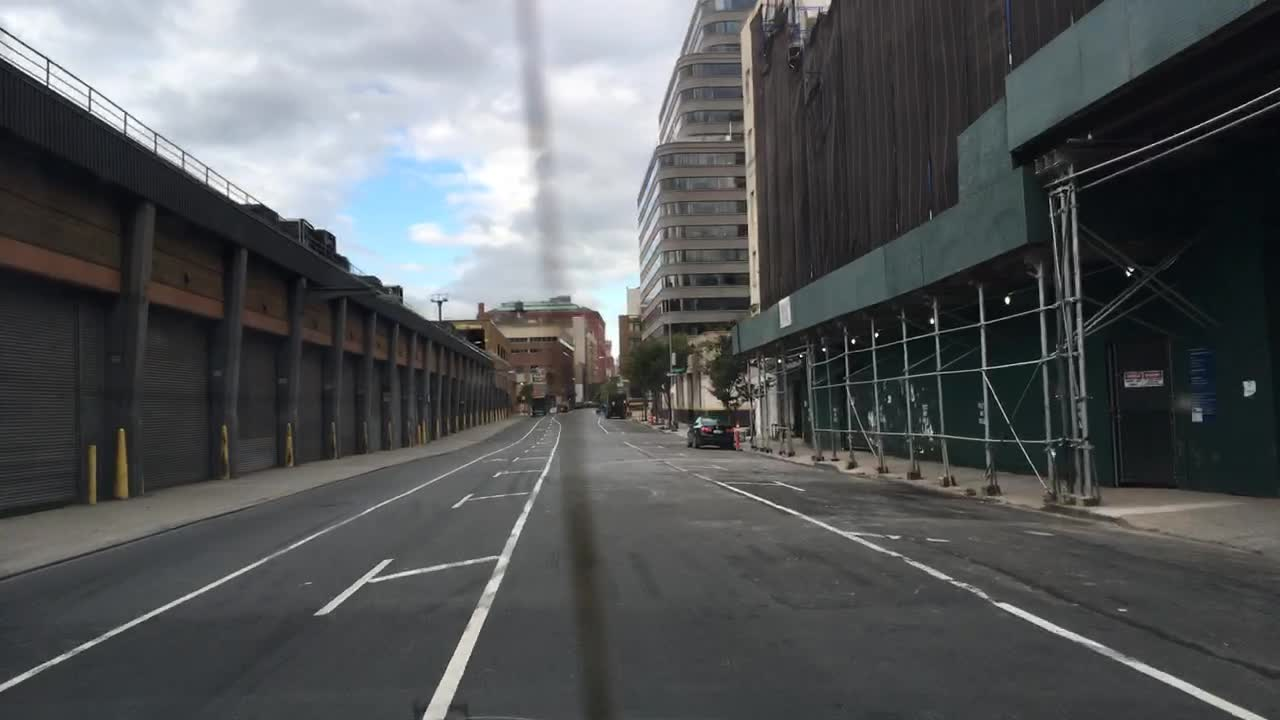car: (687, 413, 739, 451), (554, 402, 567, 412)
traffic sign: (1185, 350, 1216, 418), (1121, 367, 1163, 388), (664, 372, 681, 379), (672, 365, 687, 372)
truck: (604, 393, 626, 418), (527, 396, 547, 418)
